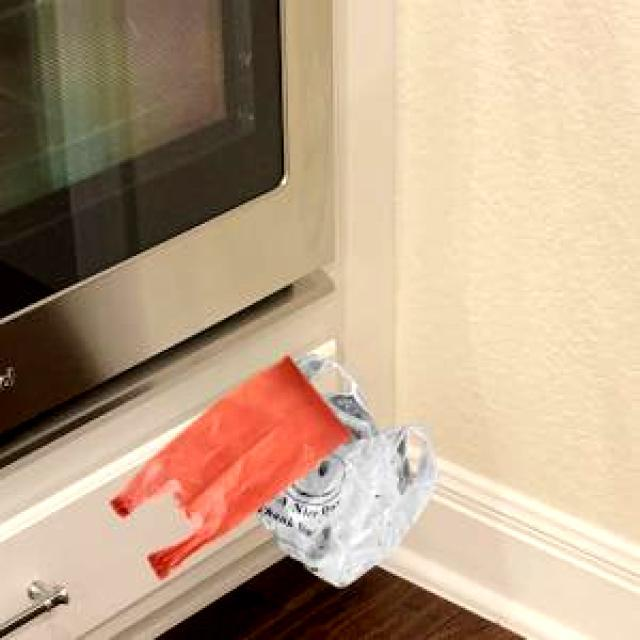Plastic_Bag: (105, 353, 348, 577), (253, 351, 434, 584)
